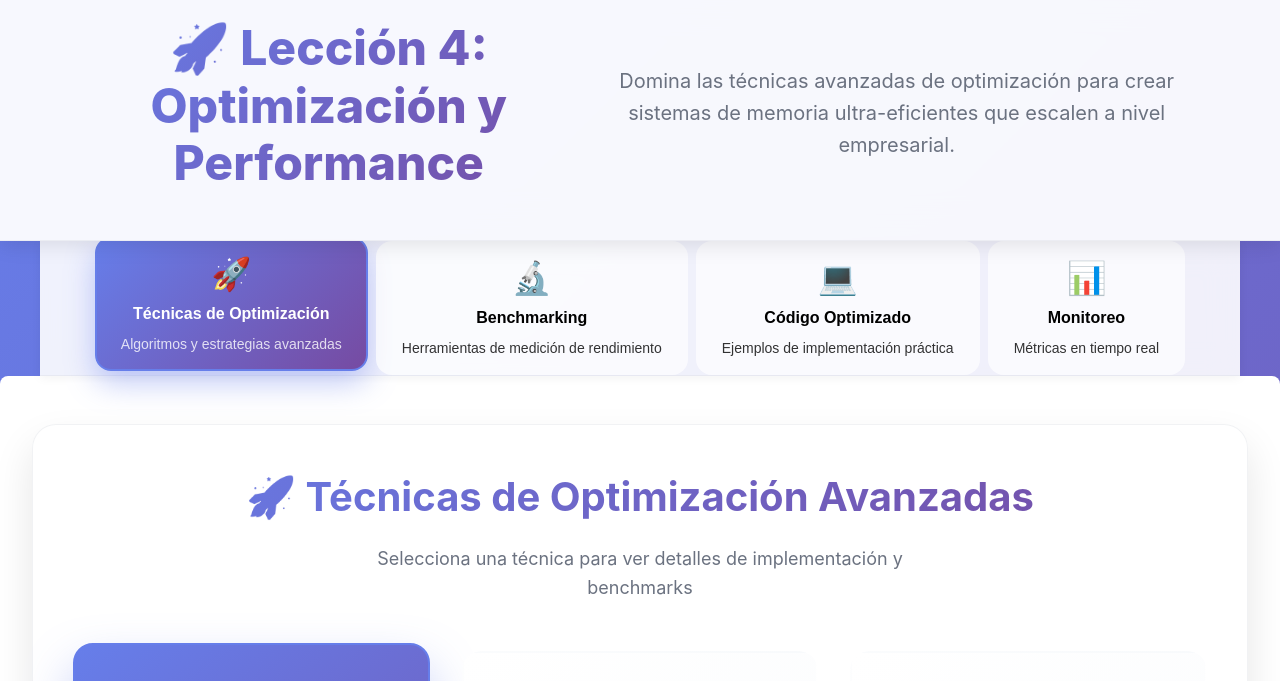
Test: Lesson04Optimization › Monitoreo de Performance › muestra recomendaciones de optimización
Step 1. Click the tab "📊 Monitoreo Métricas en tiempo real" → click(1086, 308), box [988,241,1185,375]
(page scrolled)
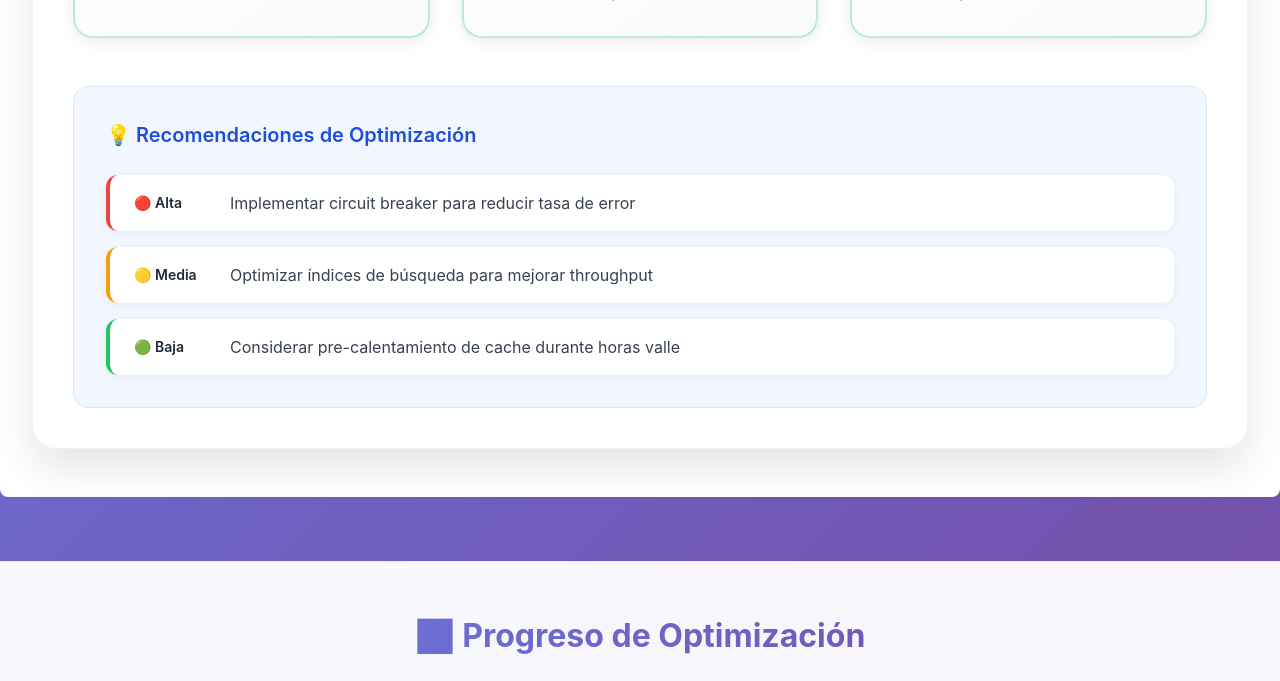
Check: the heading "💡 Recomendaciones de Optimización" is shown, box [106,123,476,147]
Check: the text "🔴 Alta" is shown, box [134,194,182,211]
Check: the text "🟡 Media" is shown, box [134,266,197,283]
